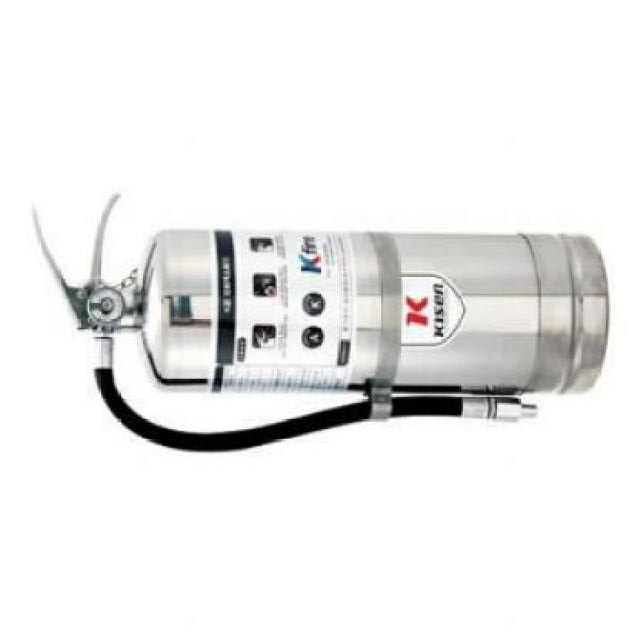fire extinguisher: (29, 194, 611, 454)
